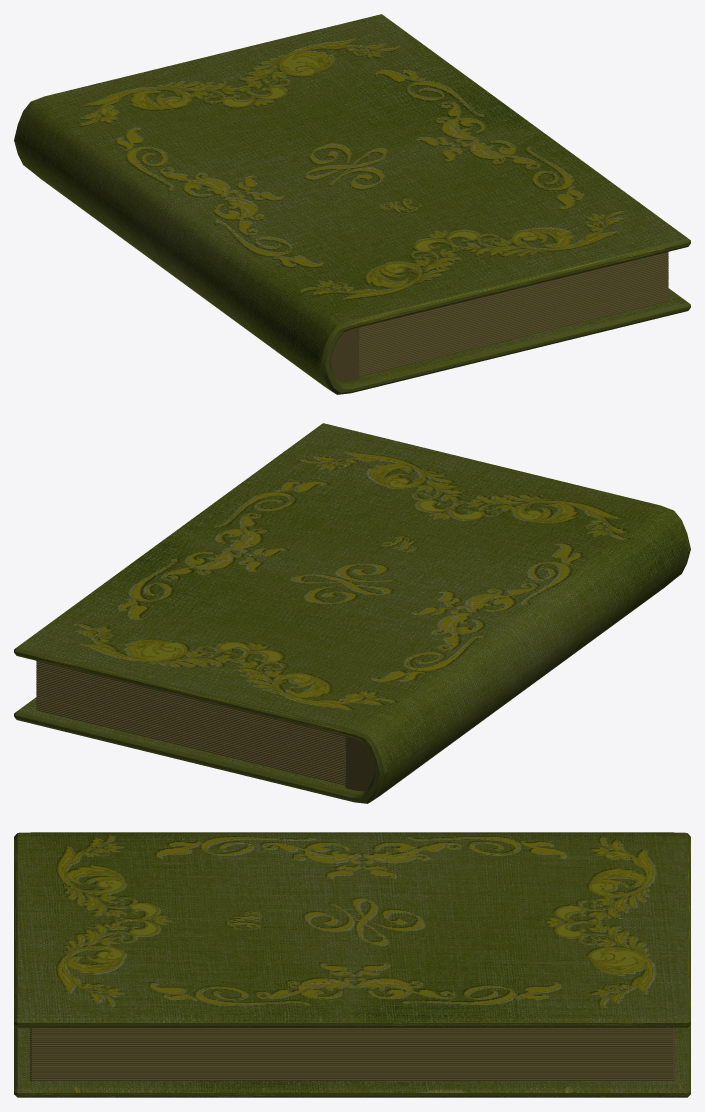
The model's file is greenbook.obj.
3 views of the same model, one above another, from view 1: azimuth 30°, elevation 25°; view 2: azimuth 150°, elevation 25°; view 3: azimuth 270°, elevation 25° (orthographic). The views are drawn at different scales.
Parts seen in each view (by area): view 1: pCube1, pCube15, pCube2; view 2: pCube1, pCube15, pCube2; view 3: pCube1, pCube15.
Part boxes in pixels (x1=…): pCube1: x1=14, y1=14, x2=690, y2=394; pCube15: x1=359, y1=252, x2=668, y2=376; pCube2: x1=330, y1=327, x2=359, y2=382; pCube1: x1=14, y1=423, x2=690, y2=803; pCube15: x1=36, y1=661, x2=345, y2=785; pCube2: x1=345, y1=736, x2=374, y2=791; pCube1: x1=14, y1=832, x2=690, y2=1097; pCube15: x1=30, y1=1027, x2=674, y2=1080.
Size of the model in its own units: 7.53 by 1.41 by 10.89.
